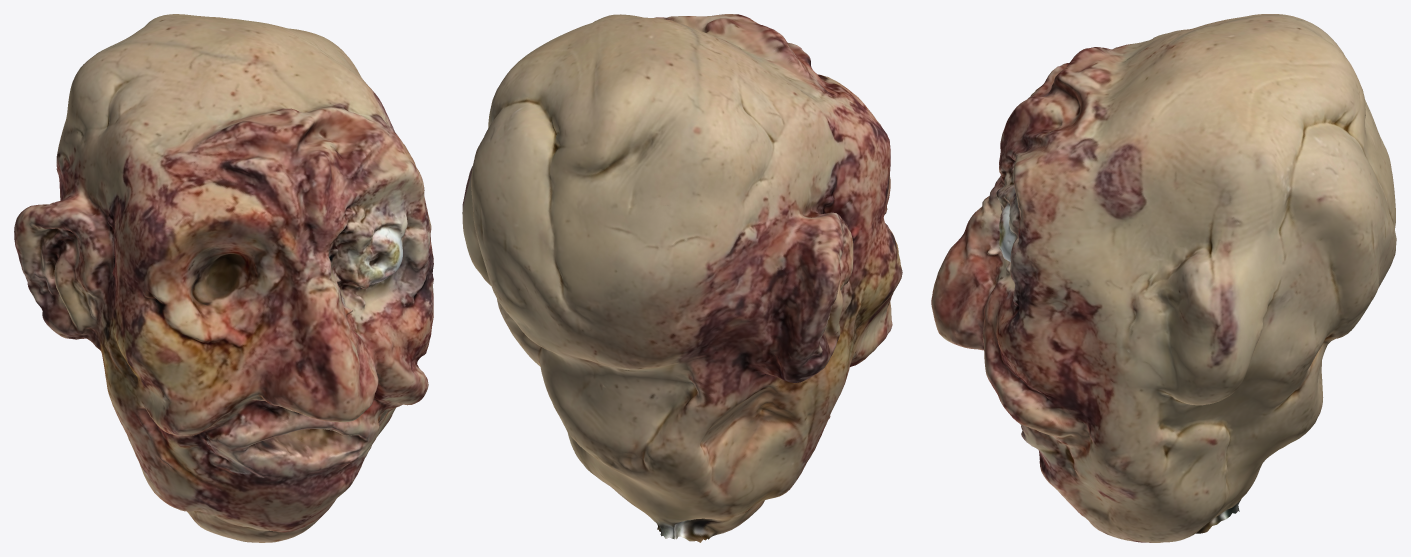
File: frame3Scan_Full.fbx
The picture shows the model from 3 angles, left to right: view 1: azimuth 30°, elevation 25°; view 2: azimuth 150°, elevation 25°; view 3: azimuth 270°, elevation 25°; orthographic projection. The views are drawn at different scales.
Parts seen in each view (by area): view 1: 3DModel; view 2: 3DModel; view 3: 3DModel.
Part boxes in pixels (x1,y1,x2,y2): 3DModel: (14,14,433,542); 3DModel: (462,14,902,542); 3DModel: (931,14,1396,542).
Bounding box in the file's own units: 16.14 × 20.2 × 16.81.
1 material, 1 textured.
